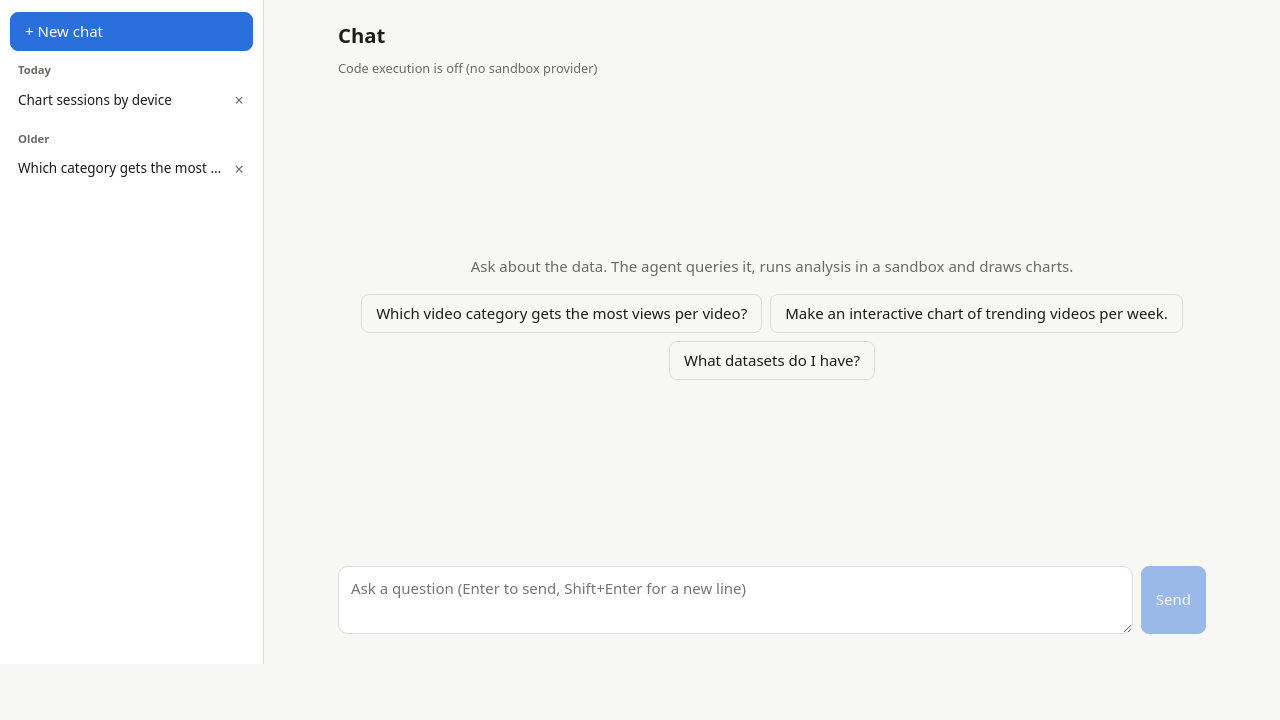
Scenario: ChatLayout › opens a past conversation in place, and keeps the live chat to come back to
Type "Hello there" into the text box named "Message".
click(735, 600); type("Hello there")  # box [338,566,1133,634]
Then press Enter
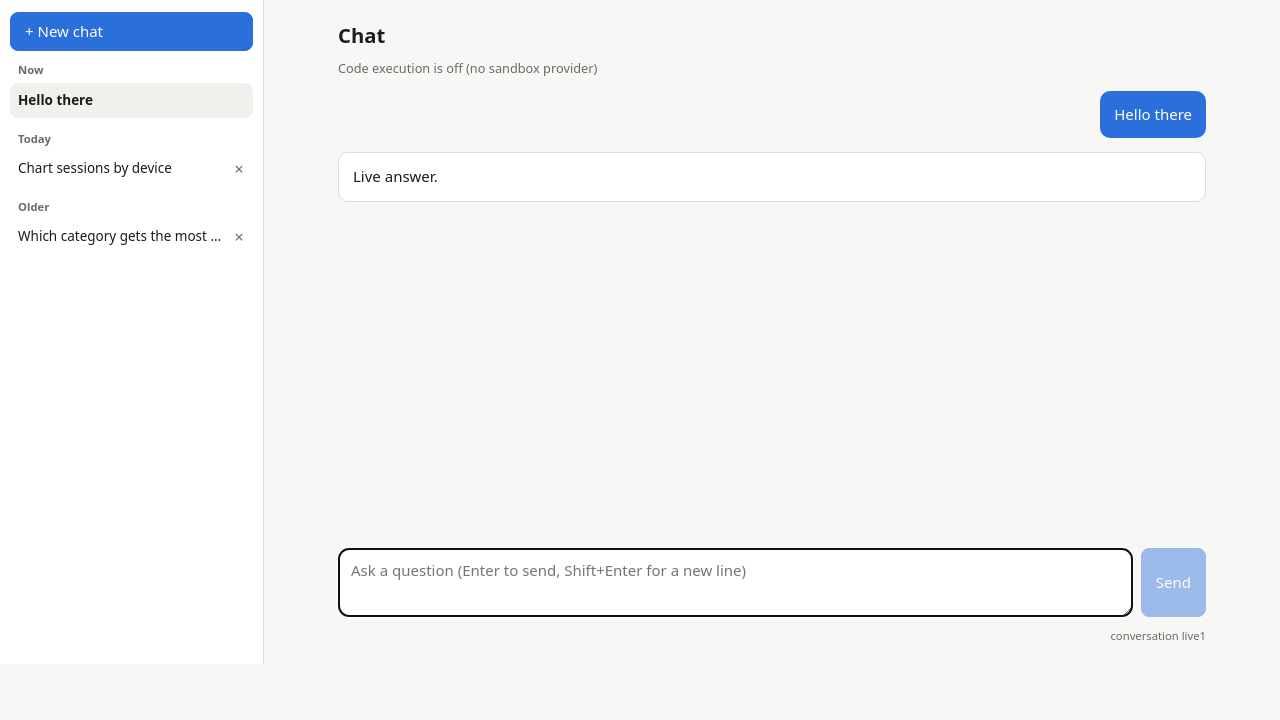
Check: the text "Live answer." is shown, box [353,166,438,186]
Click the link "Which category gets the most views?".
click(135, 236)  # box [18,227,251,245]
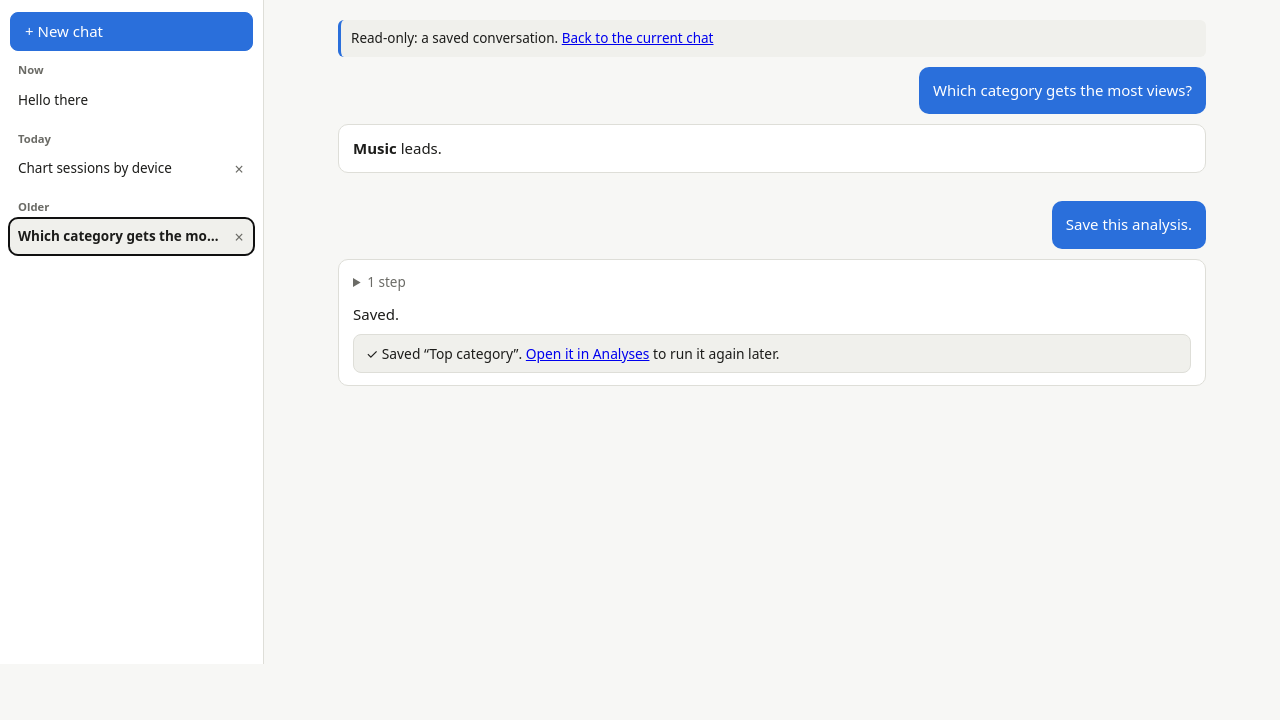
Check: the text "Music" is shown, box [353,138,397,158]
Check: the text "Read-only: a saved conversation. Back to the current chat" is shown, box [338,20,1206,57]
Note: the live chat is listed as "Now" until the history has it, and still holds its messages
Click the link "Hello there".
click(53, 100)  # box [18,91,88,109]
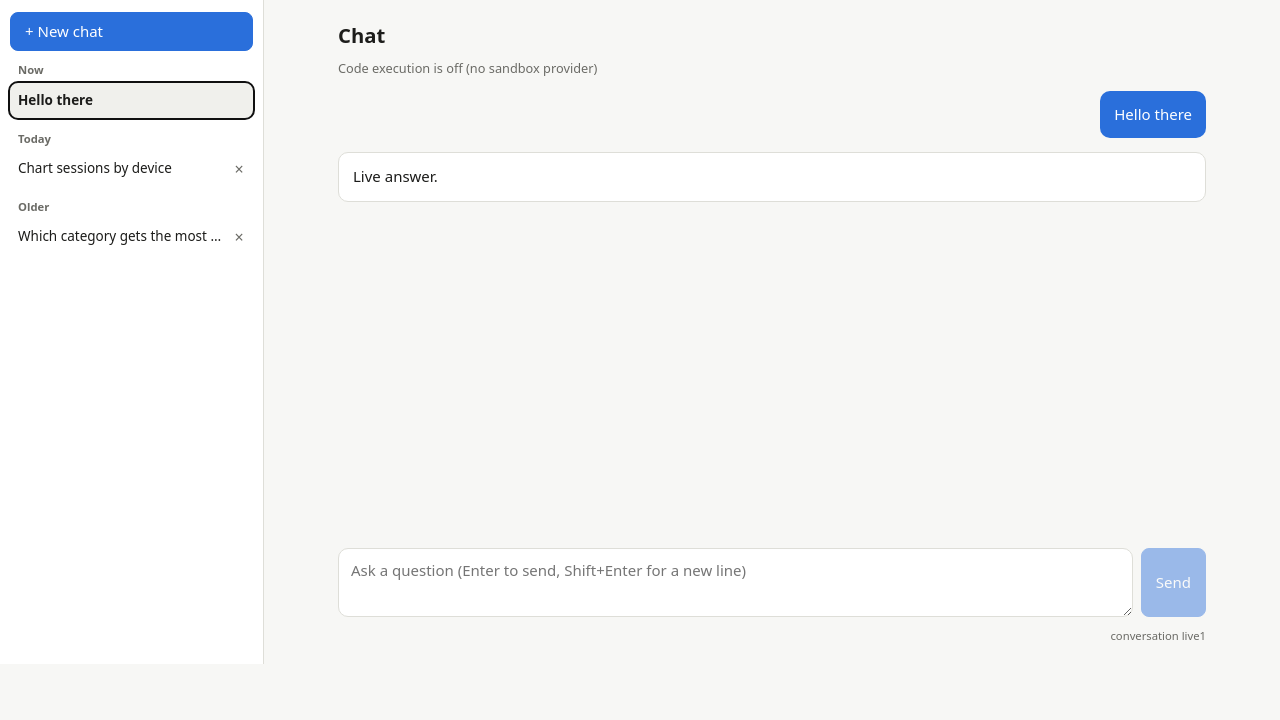
Check: the text "Live answer." is shown, box [353,166,438,186]
